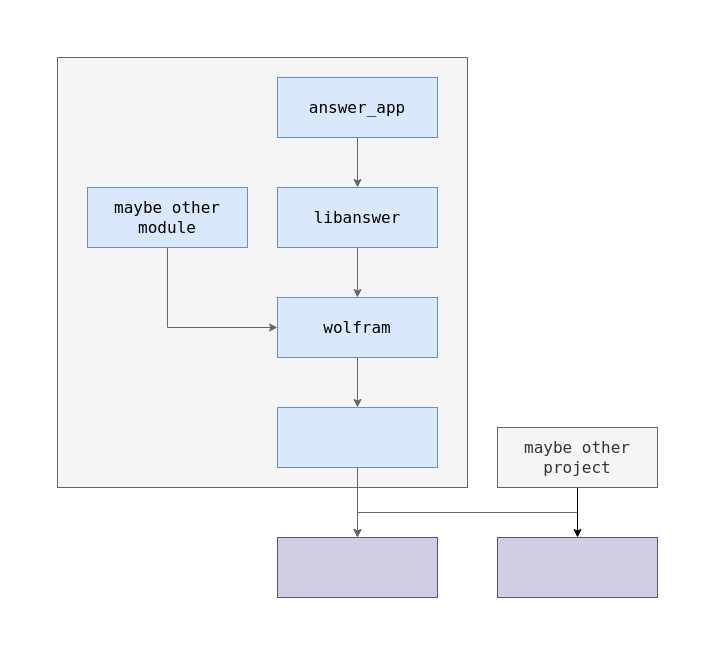
The diagram is 714 pixels wide and 654 high, and some of its shapes have lost their labels. Here are the shapes that lost their labels. From the top down, the centre of each, then its label:
[357,437]: curl_wrapper
[357,567]: CURL::libcurl
[577,567]: maybe other system lib
